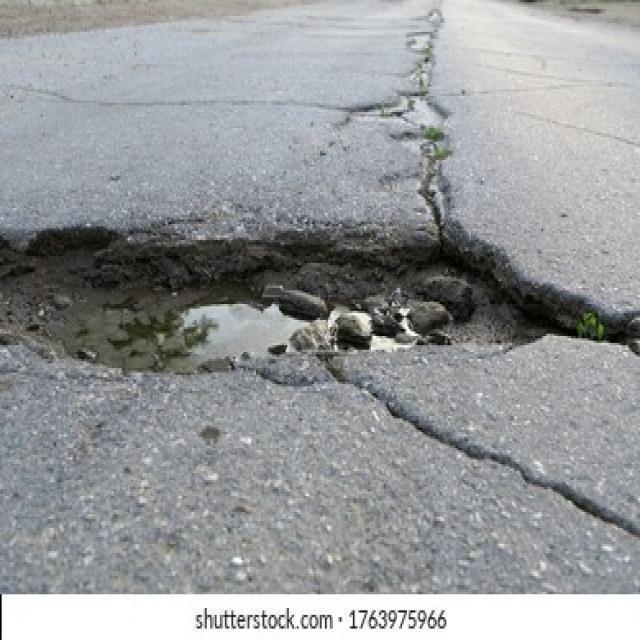pothole: (0, 205, 569, 377)
